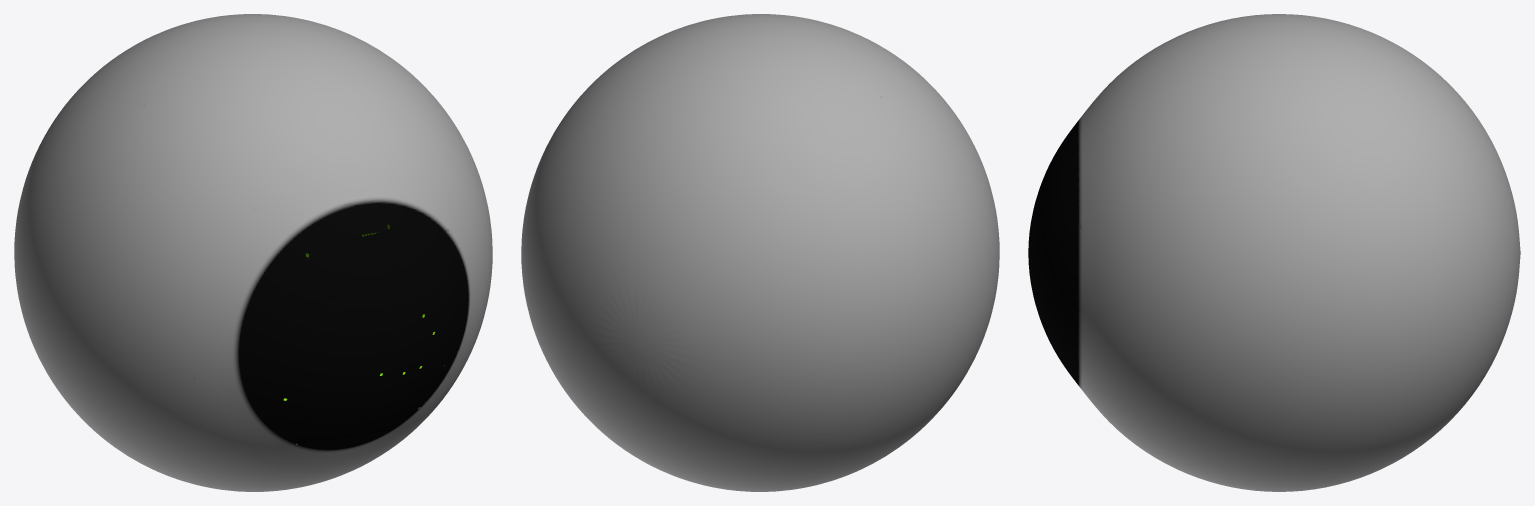
The model's file is Eye2.fbx.
The picture shows the model from 3 angles, left to right: view 1: azimuth 30°, elevation 25°; view 2: azimuth 150°, elevation 25°; view 3: azimuth 270°, elevation 25°; orthographic projection.
Visible parts, largest first — view 1: Sphere; view 2: Sphere; view 3: Sphere.
Boxes of the visible parts, bbox=[...] form: Sphere: bbox=[14, 14, 492, 491]; Sphere: bbox=[521, 14, 999, 491]; Sphere: bbox=[1028, 14, 1520, 491].
Bounding box in the file's own units: 197 × 197 × 203.
Materials: 2 (2 with a texture image).
